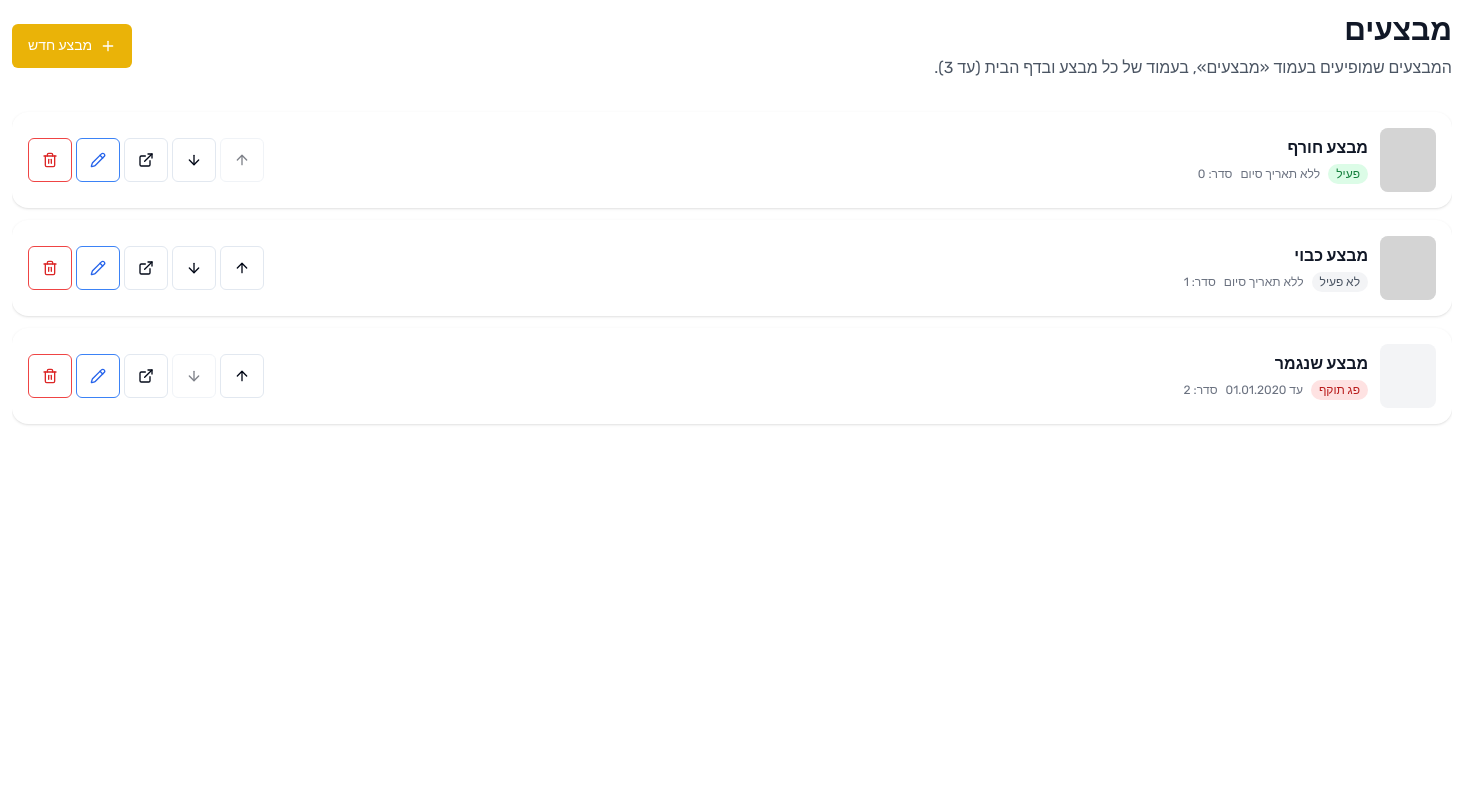
it: admin deals — form › shows a live preview at mobile and desktop widths
Expected: the text "מבצע חורף" is shown, [1288,138,1368,157]
Click the button "מבצע חדש": (72, 46) [12,24,132,68]
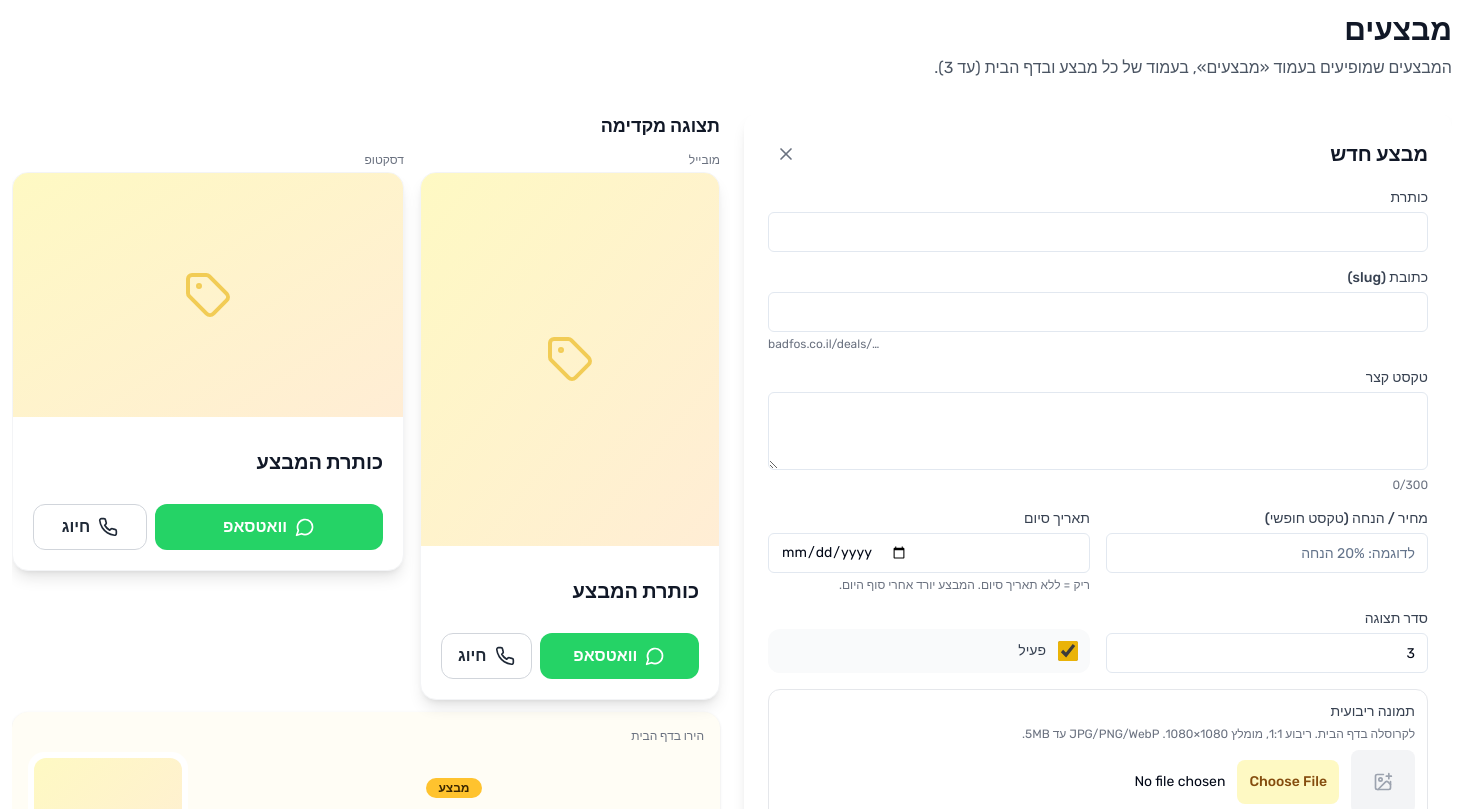
In the field labelled "כותרת": (1098, 232) [768,212,1428,252], type "תצוגה"
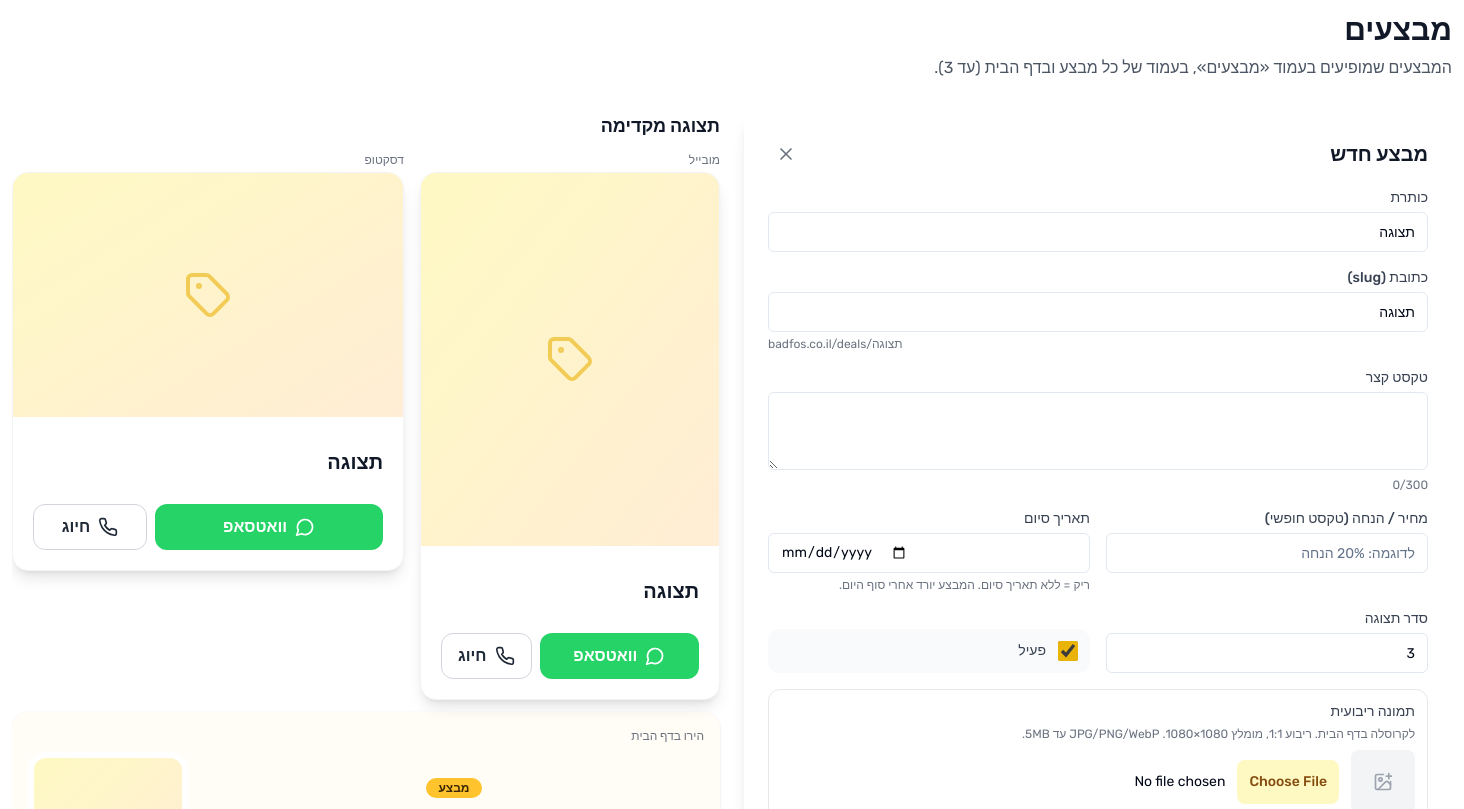
Now the number of elements with test id "deal-card" is 2, box [420,172,720,700]; [12,172,404,571]
Now the 2nd heading "תצוגה" is shown, box [643,578,699,602]
Now the 1st heading "תצוגה" is shown, box [327,450,383,474]
